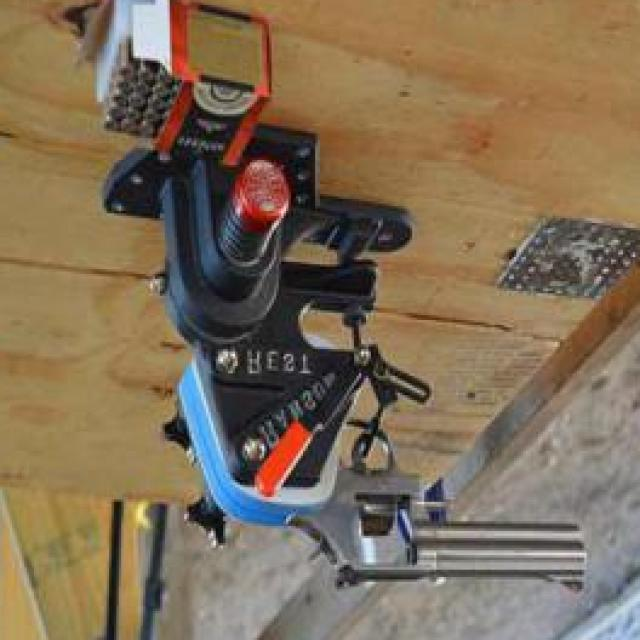pistol: (276, 419, 588, 602)
